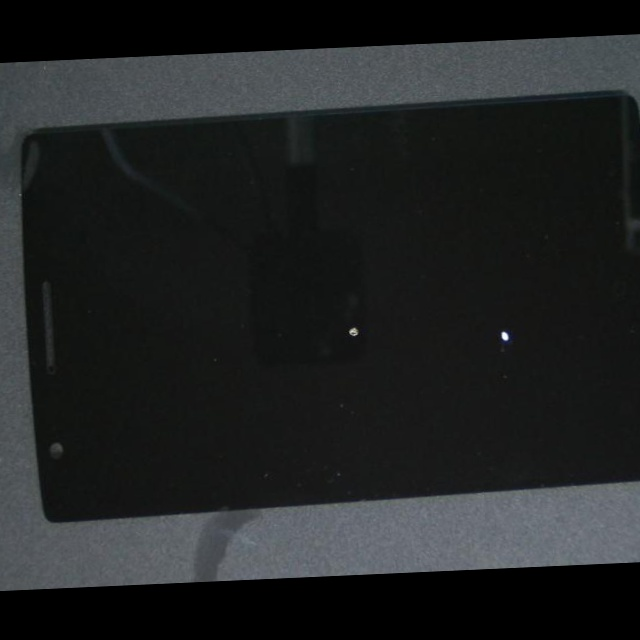stain: (137, 137, 548, 470), (241, 205, 640, 494)
